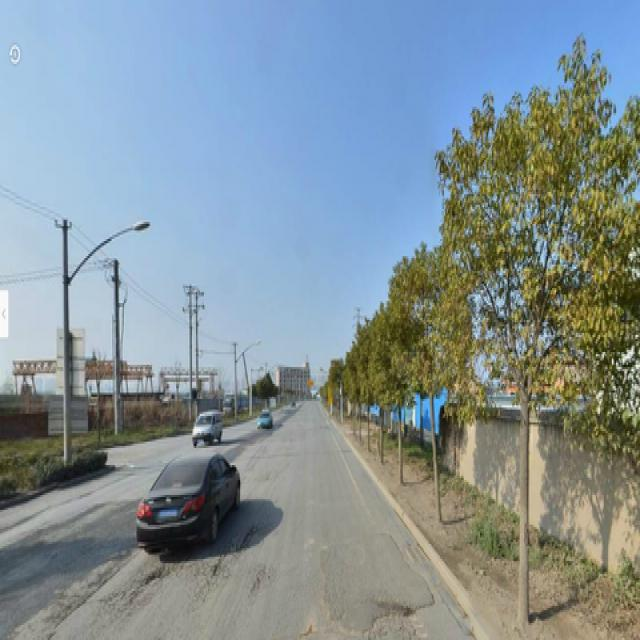cinn: (469, 100, 615, 582), (391, 252, 460, 527)
